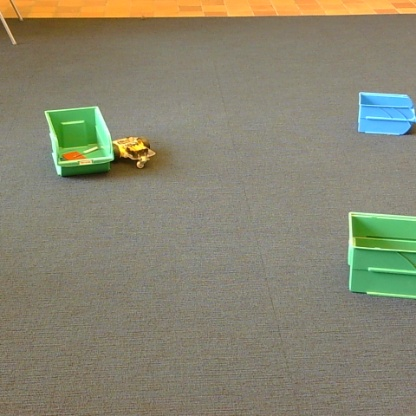robot: (114, 137, 155, 168)
